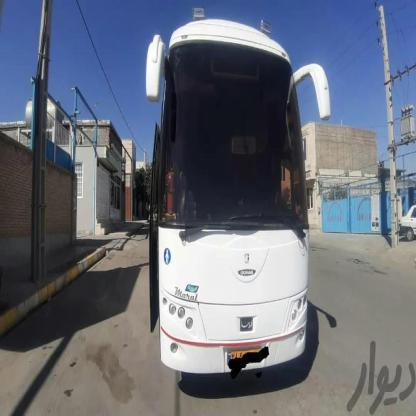Bus: (146, 17, 324, 377)
Car: (397, 203, 414, 253)
